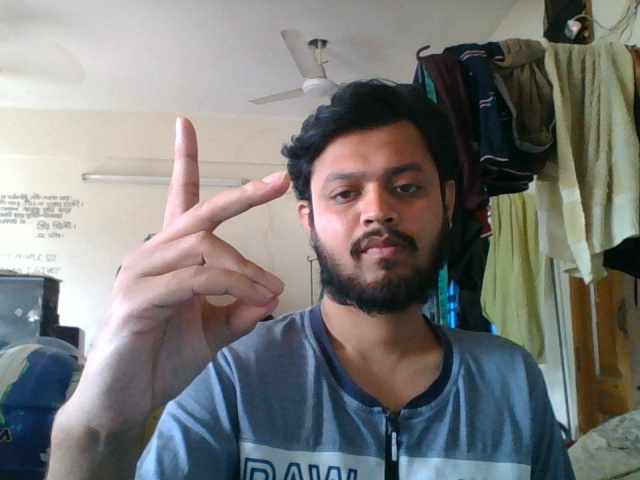na: (82, 113, 298, 460)
